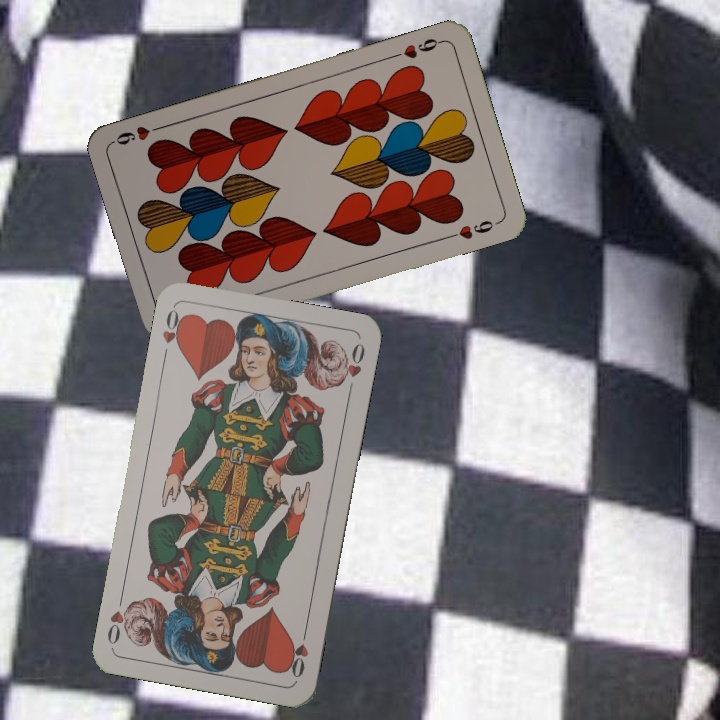H9: (388, 34, 446, 61)
HO: (158, 304, 188, 362), (284, 623, 311, 681)
